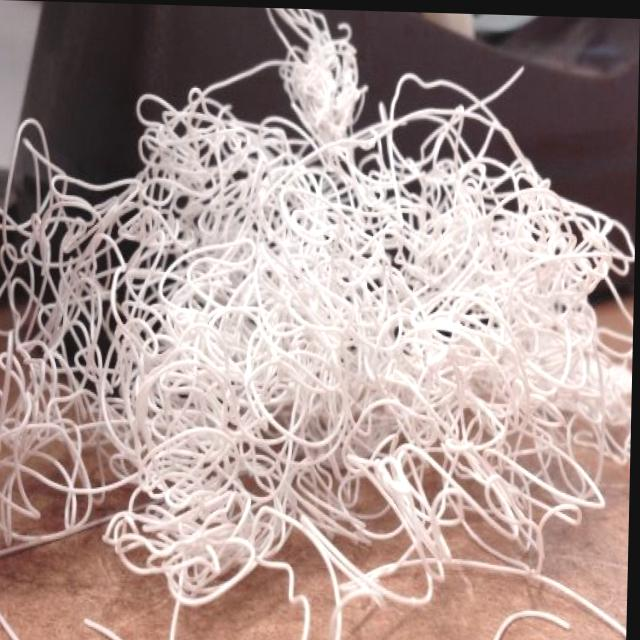spaghetti: (0, 10, 640, 622)
